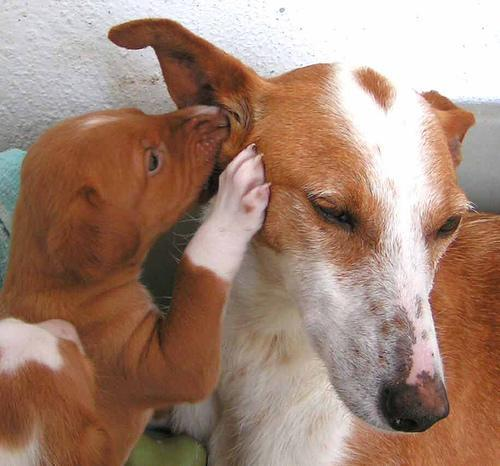Ibizan_hound: (104, 16, 496, 463), (1, 104, 272, 464)
